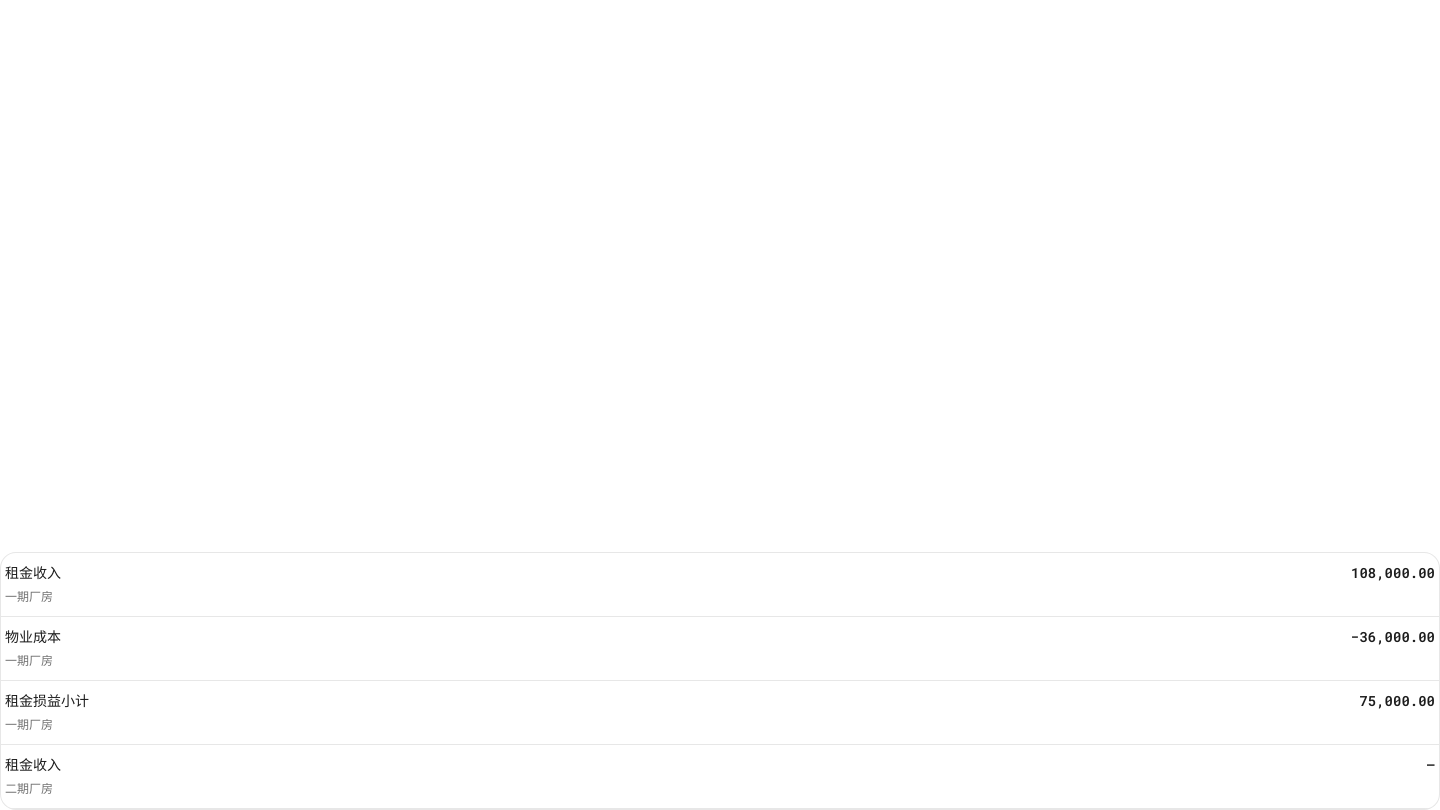
Test: 损益附表 · S 档卡片化(稿 WideCardVariants §3) › ❗S 档编辑态不卡片化:照旧横滚表 + 48 个月格 input(小屏录入不许被卡片吃掉)
The width and height of the screenshot is (1440, 810).
// 读态开着抽屉时切进编辑 → 抽屉跟着卡列一起下线,不会在退出编辑后自己弹回来
Click the element with class "fpwc-c" showing "租金收入 108,000.00 一期厂房". click: coordinates (720, 585)
box: [1,553,1439,617]
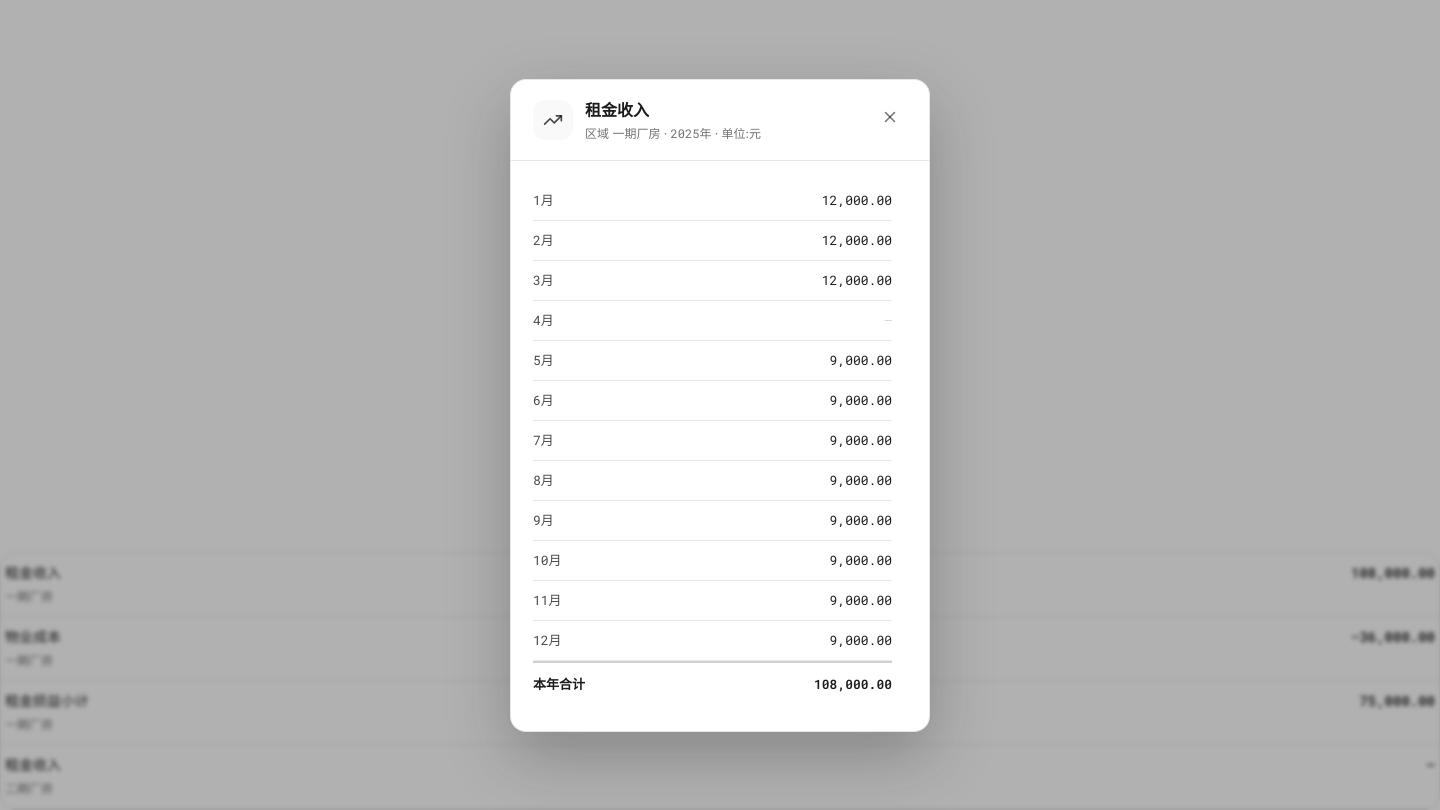
Now the dialog with class "fp-dwr" is shown, box [510,78,930,732]
